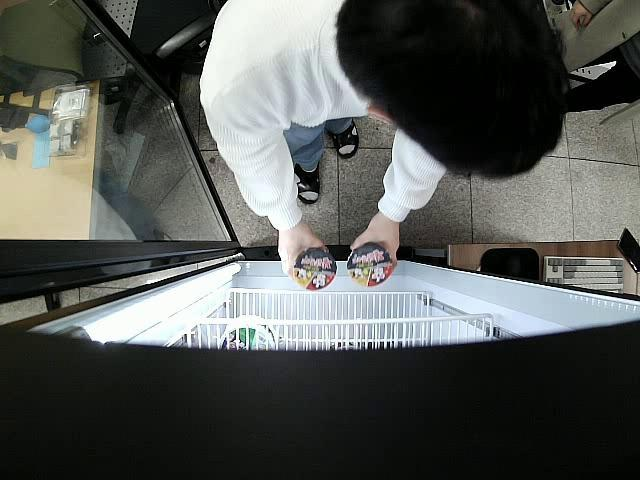08_buldak_S: (348, 243, 393, 286), (292, 248, 338, 290)
